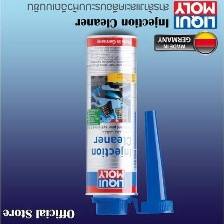aerosol_cans: (82, 28, 143, 219)
